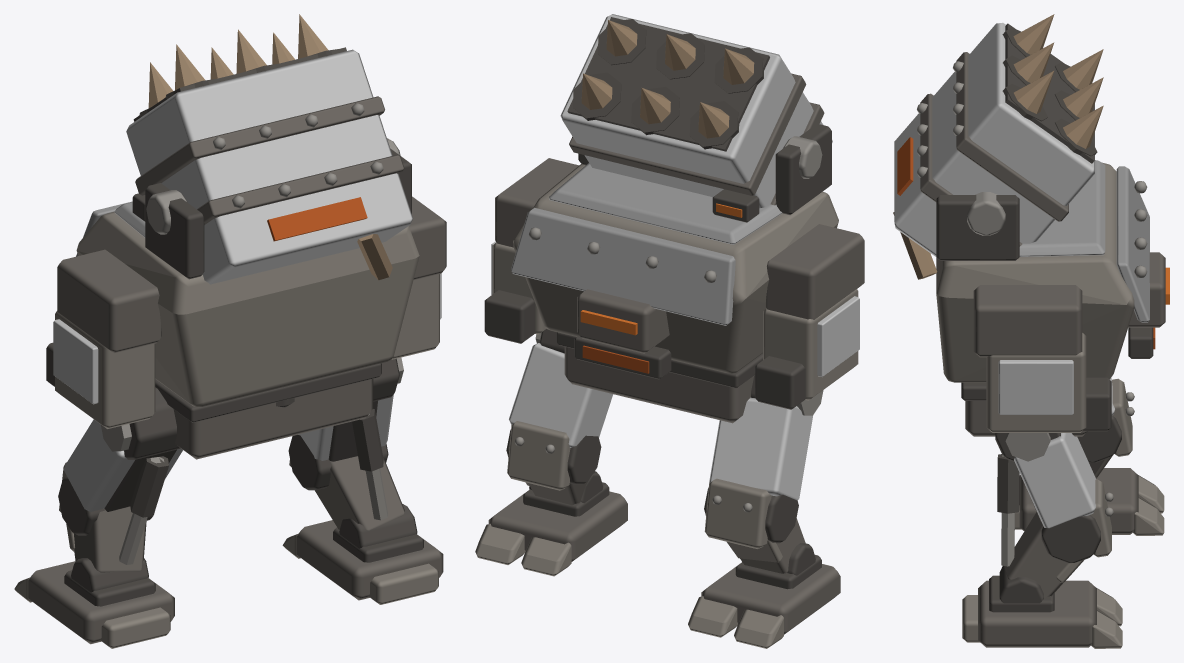
The model's file is crucible_aa_bot.glb.
3 renders of one model, left to right at view 1: azimuth 30°, elevation 25°; view 2: azimuth 150°, elevation 25°; view 3: azimuth 270°, elevation 25°, orthographic. The views are drawn at different scales.
Visible parts, largest first — view 1: Turret, Body; view 2: Turret, Body; view 3: Turret, Body.
Part boxes in pixels (x1,y1,x2,y2): Turret: [46, 14, 446, 428]; Body: [14, 357, 443, 648]; Turret: [484, 14, 864, 409]; Body: [475, 329, 840, 648]; Turret: [893, 14, 1169, 432]; Body: [961, 377, 1164, 648].
Size of the model in its own units: 0.91 by 1.41 by 0.6634.
